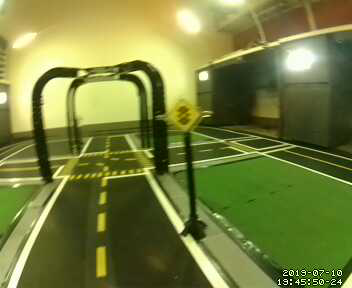Traffic light sign: (166, 97, 202, 135)
